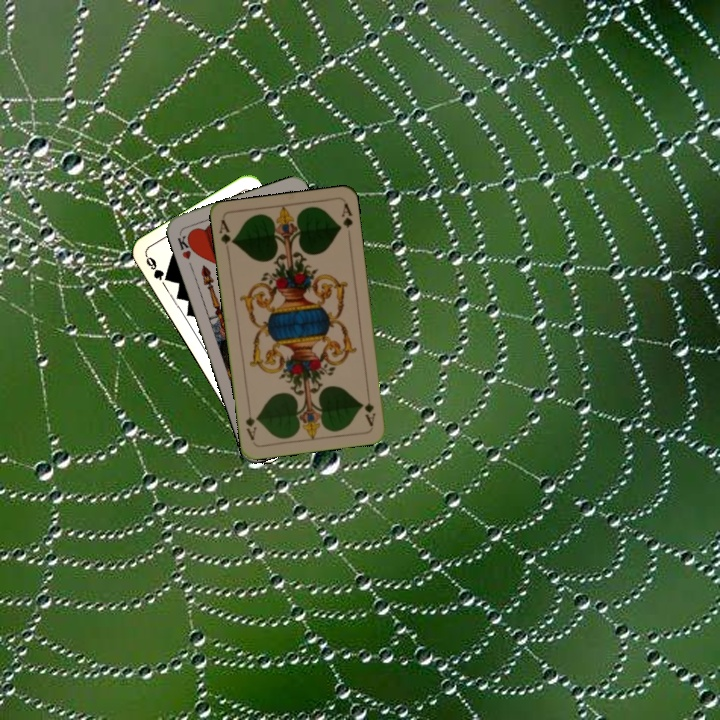G9: (141, 251, 173, 284)
GA: (360, 388, 378, 428), (215, 216, 237, 247)
HK: (173, 230, 198, 262)
